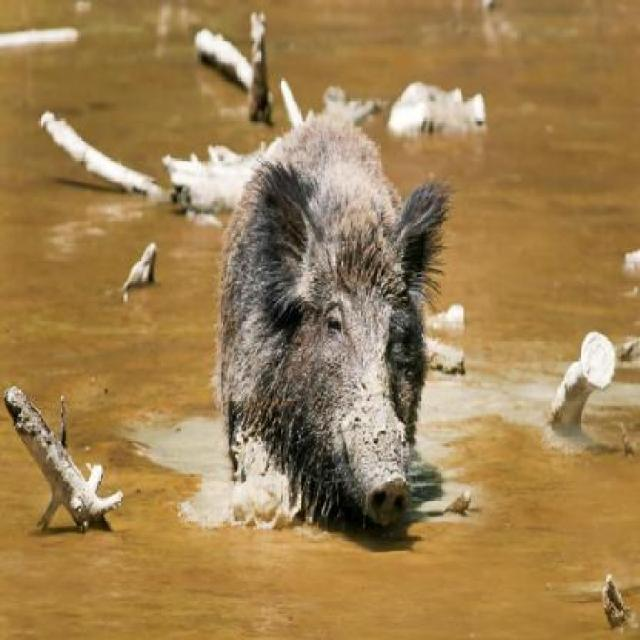wildboar: (208, 90, 452, 562)
